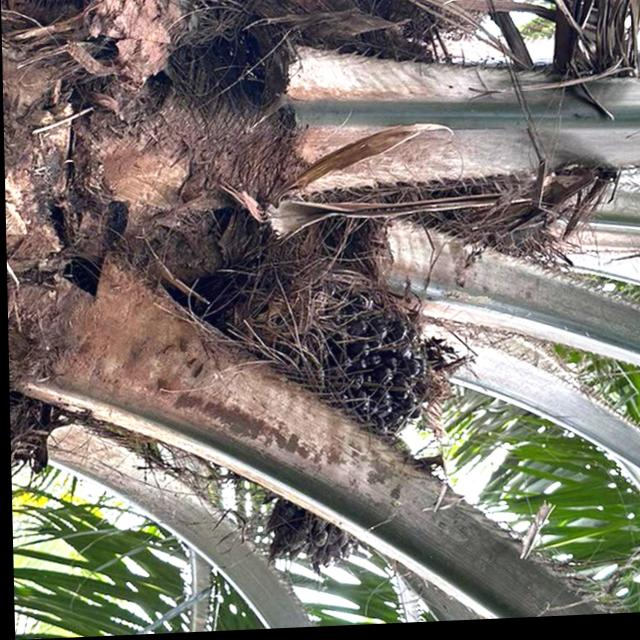almost: (232, 273, 445, 446)
